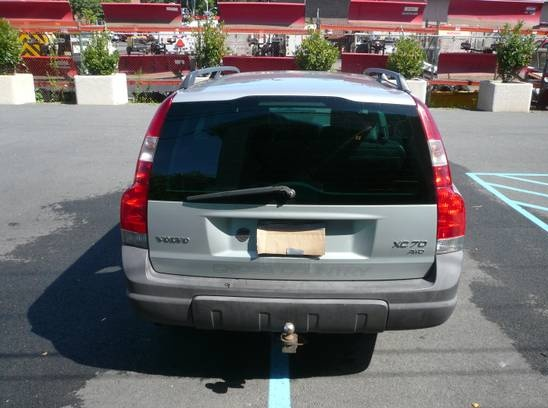volvo: (80, 57, 510, 359)
